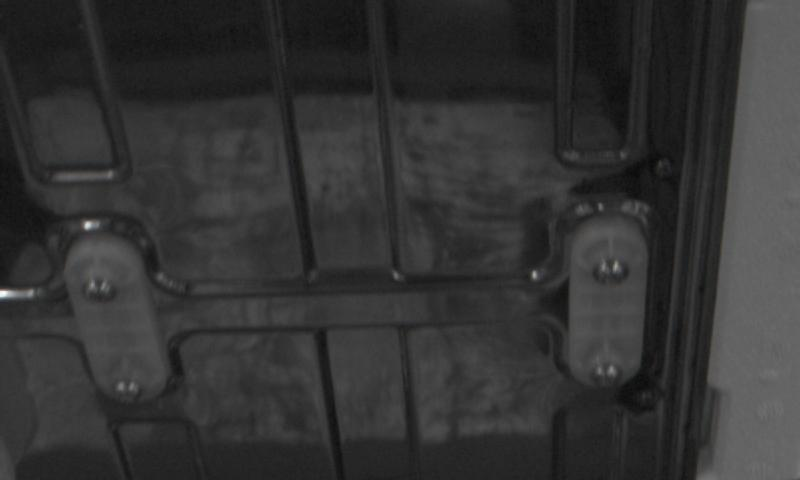vida-ok: (587, 248, 633, 292), (77, 268, 123, 312), (589, 351, 635, 390), (107, 369, 152, 408)
